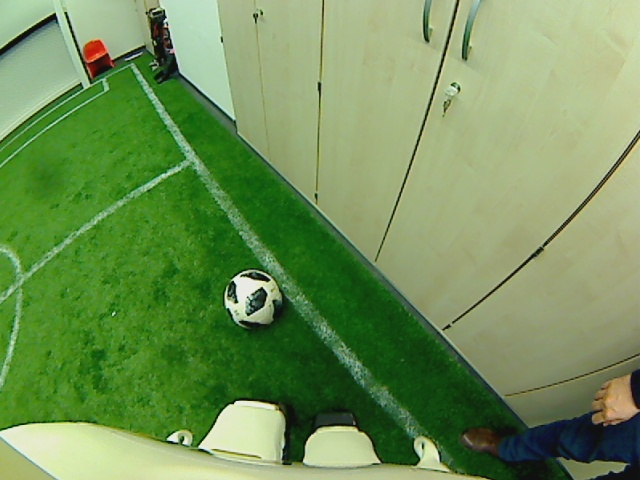ball: (224, 270, 284, 327)
